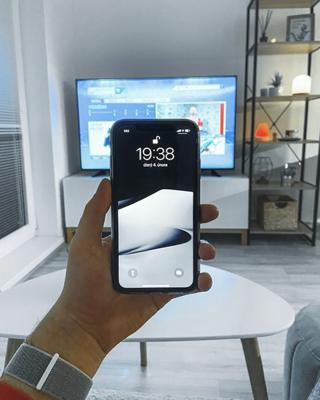cell-phone: (109, 114, 201, 295)
